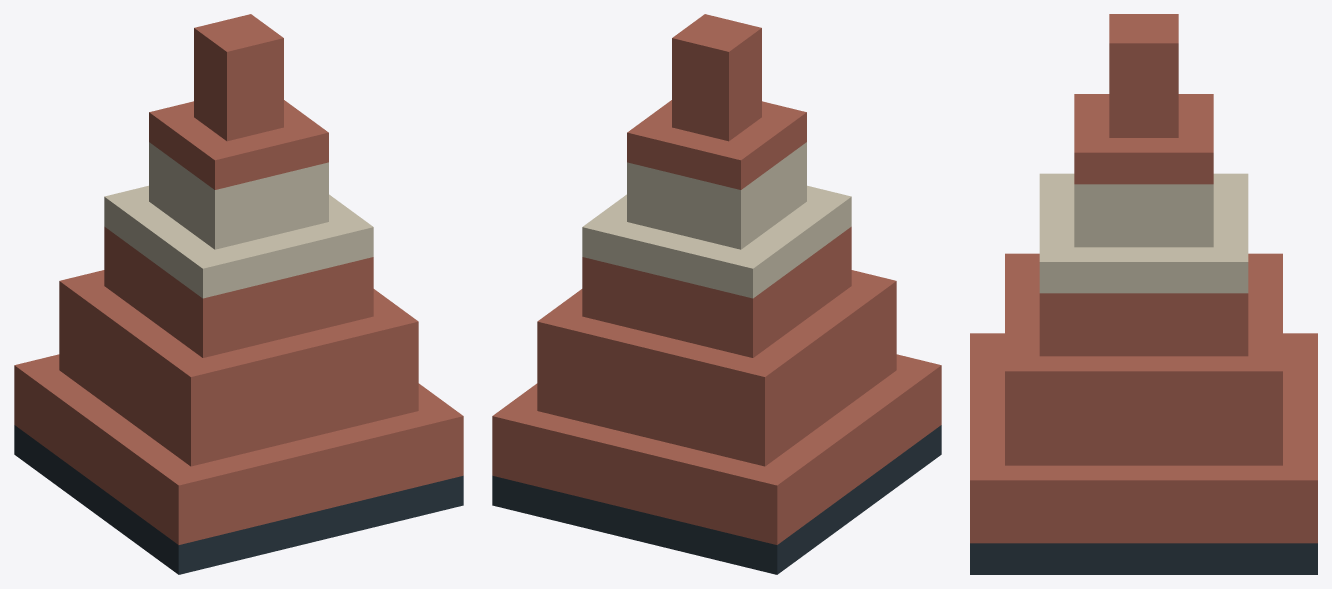
File: construction-03.glb
3 renders of one model, left to right at view 1: azimuth 30°, elevation 25°; view 2: azimuth 150°, elevation 25°; view 3: azimuth 270°, elevation 25°, orthographic. The views are drawn at different scales.
Parts seen in each view (by area): view 1: Safety cone; view 2: Safety cone; view 3: Safety cone.
Part boxes in pixels (box(x1,y1,x2,y2)): Safety cone: box(14, 14, 463, 574); Safety cone: box(492, 14, 941, 574); Safety cone: box(970, 14, 1317, 574).
Size of the model in its own units: 0.8 by 1.2 by 0.8.
